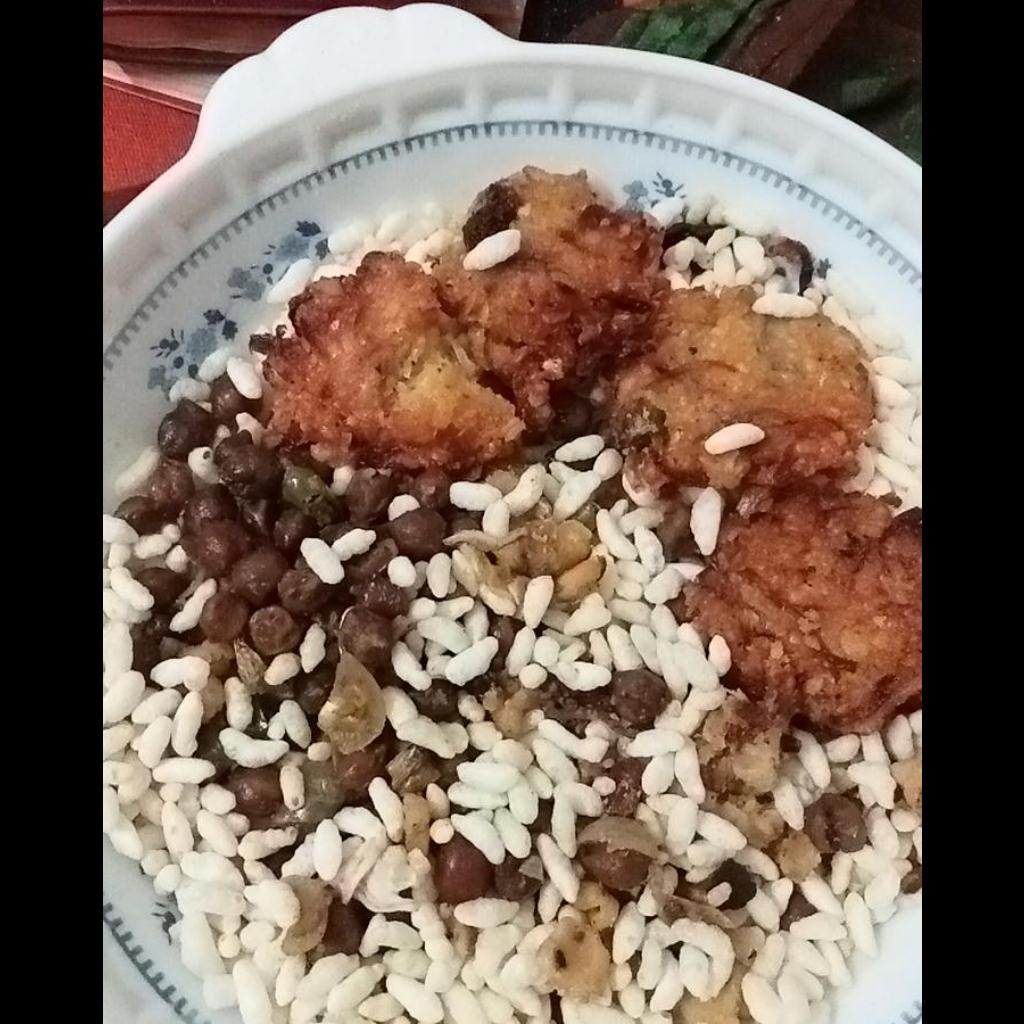chola: (116, 381, 448, 798)
peyaju: (259, 173, 920, 728)
puffed-rice: (102, 503, 920, 1023)
